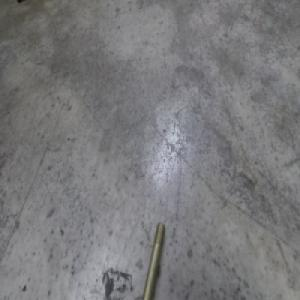Bolt: (141, 224, 164, 300)
